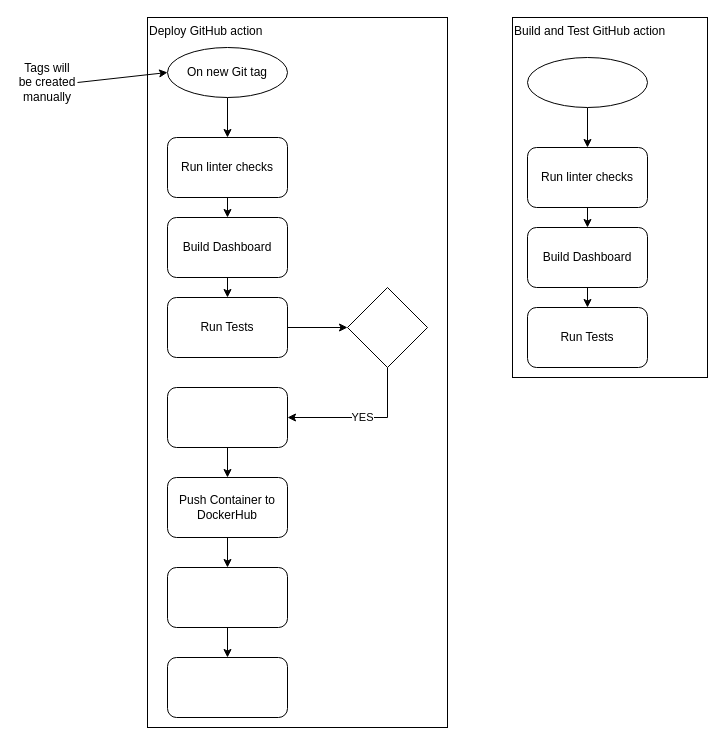
The diagram is 725 pixels wide and 745 high, and some of its shapes have lost their labels. The shapes that lost their labels are listed below. From the top down, each one's box as (x1, y1, x2, y2) in pixels, then its label:
(526, 56, 648, 108): On push to any non-master branch
(346, 286, 428, 368): Tests pass?
(166, 386, 288, 448): Build Docker container
(166, 566, 288, 628): Login to Azure Kubernetes Service
(166, 656, 288, 718): Update Kubernetes Cluster to use new Container version
